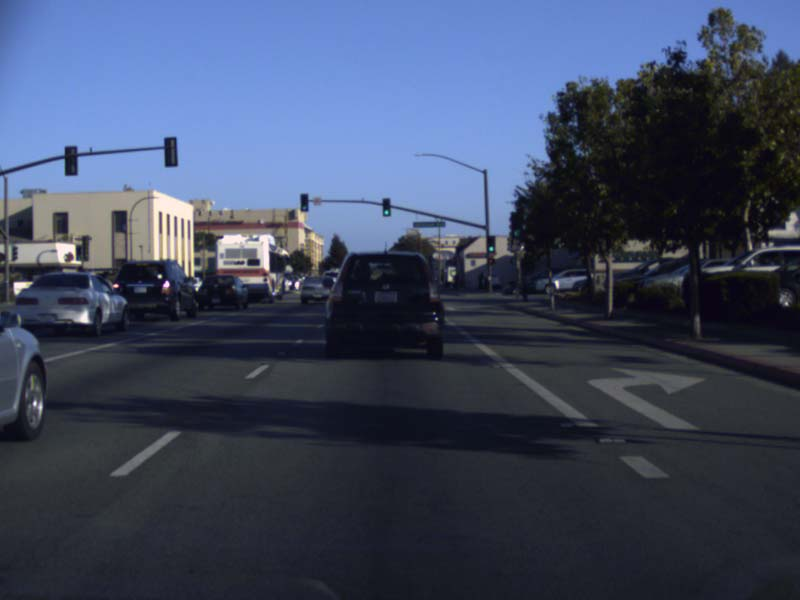Green: (512, 214, 522, 237), (299, 193, 308, 211), (382, 198, 390, 215), (486, 236, 494, 252)
